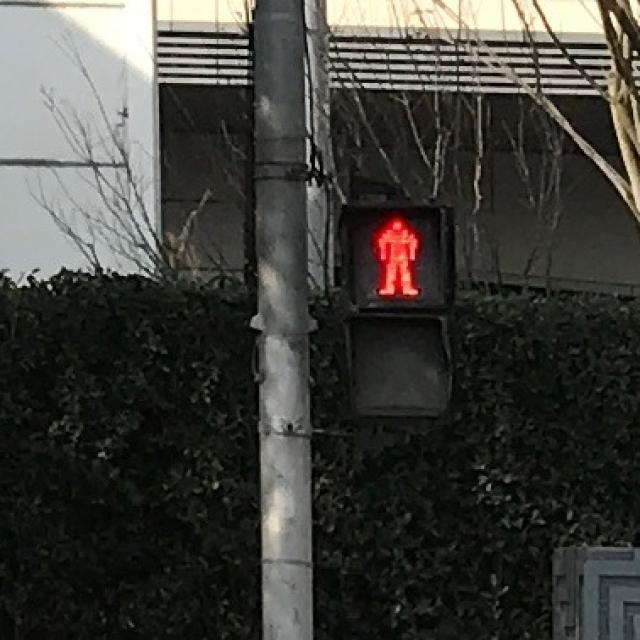red-crossing: (350, 198, 440, 305)
